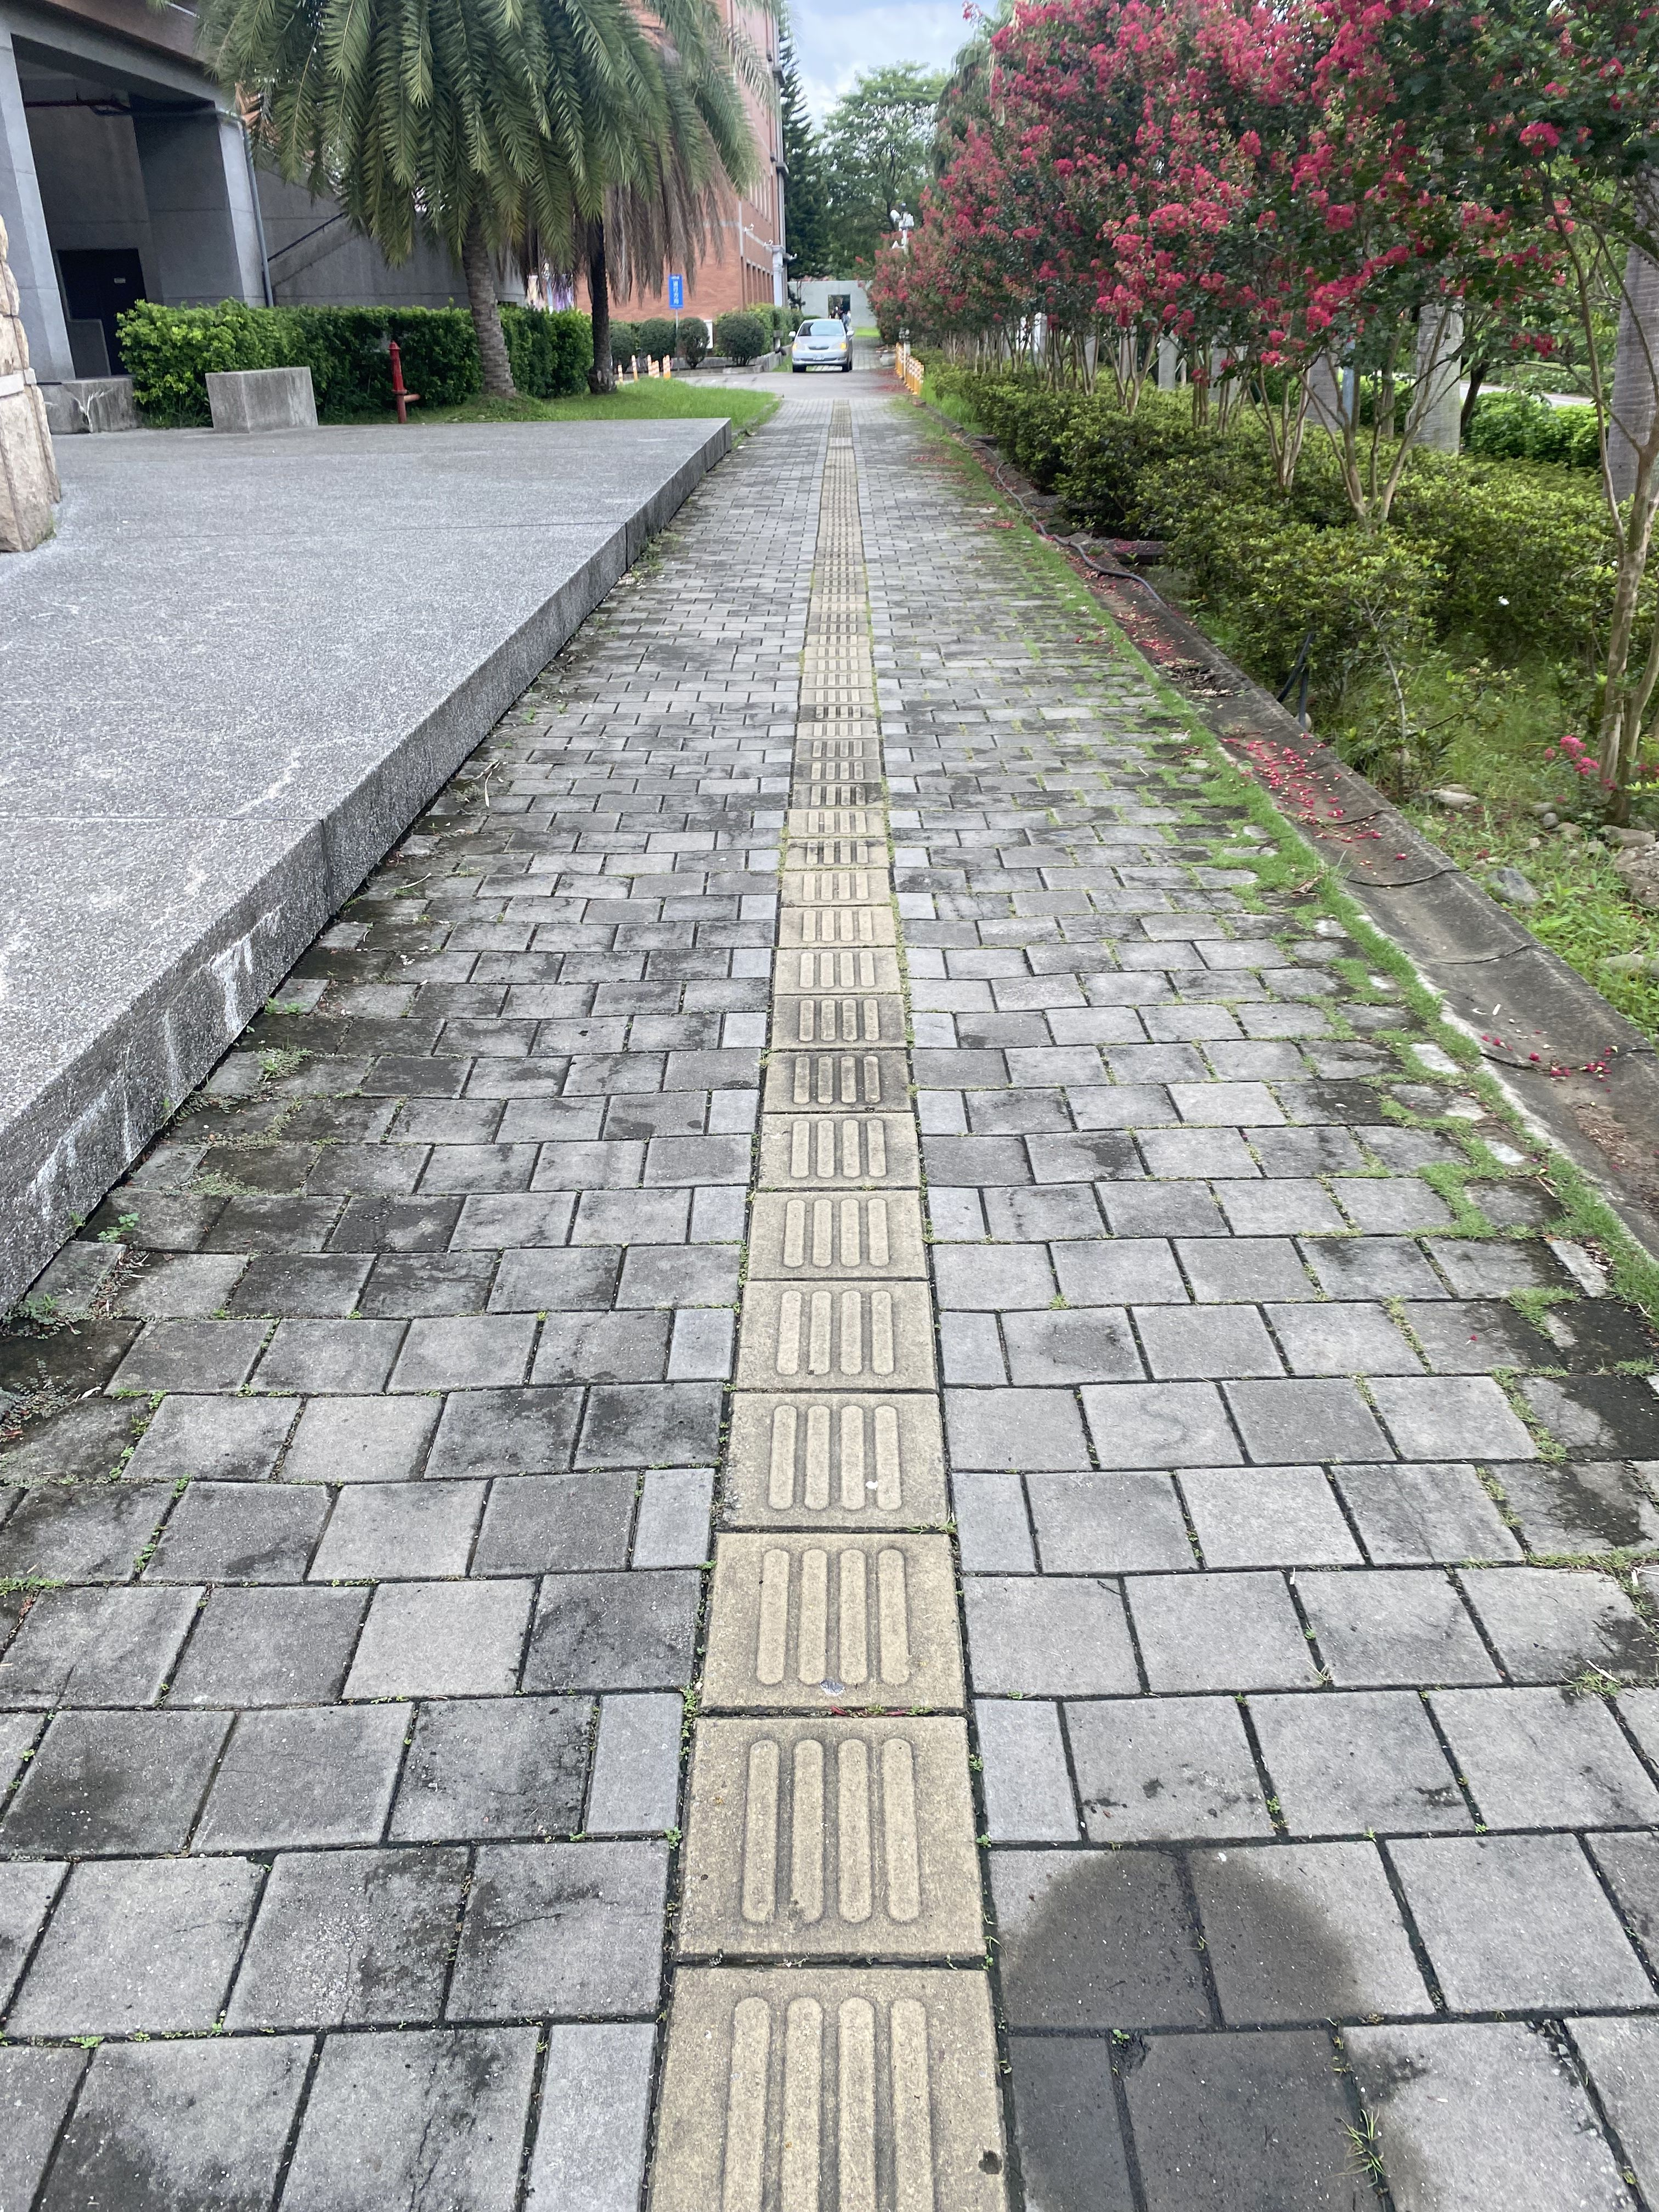0: (3, 557, 1659, 2212)
sidewalk: (608, 416, 1249, 1468)
